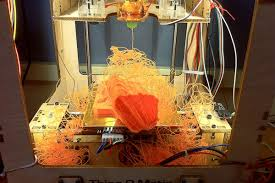Fail: (81, 46, 215, 159)
